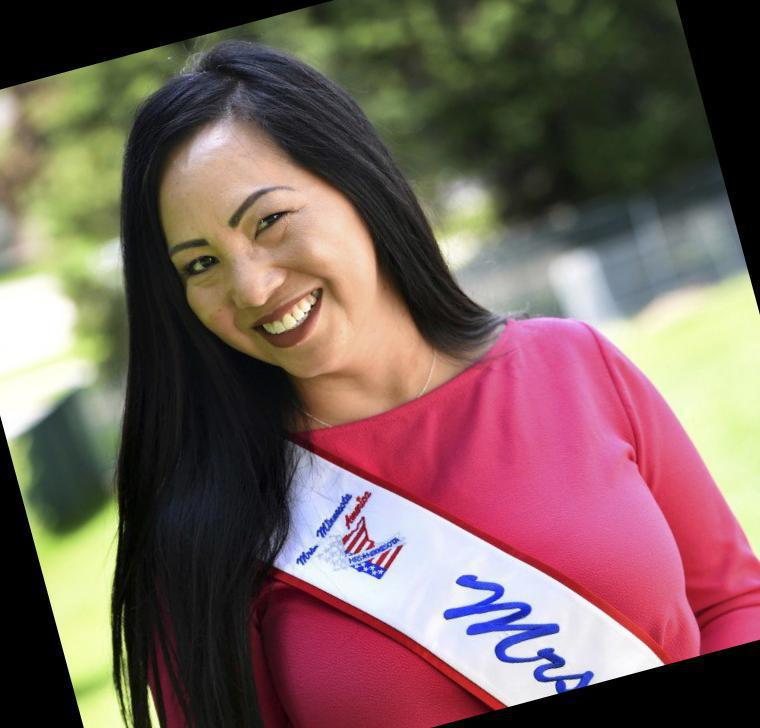Sober: (156, 132, 389, 378)
